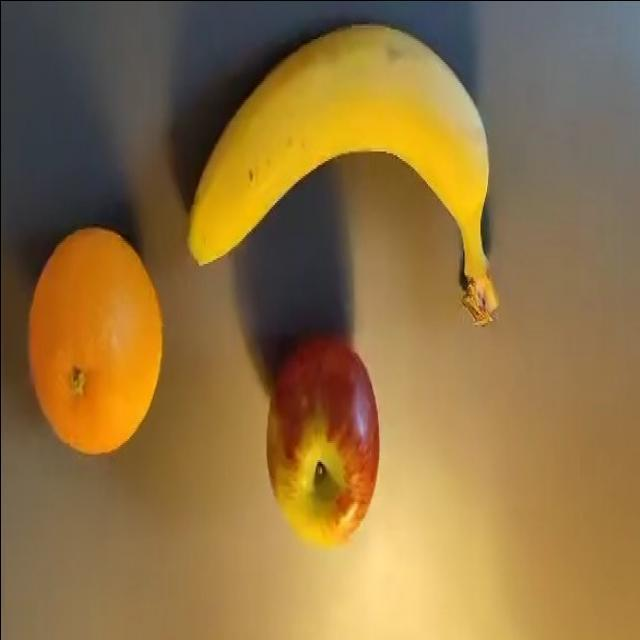Apple: (266, 333, 382, 549)
Banana: (185, 21, 504, 306)
Orange: (29, 226, 168, 456)
